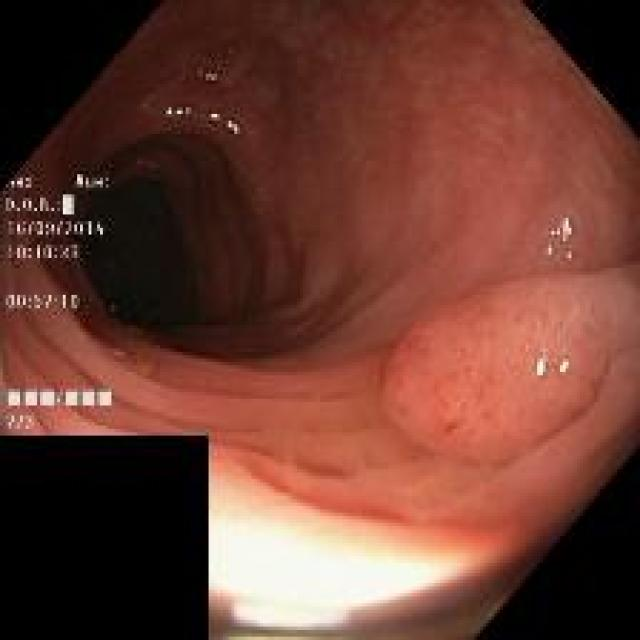Polyps: (384, 273, 640, 463)
